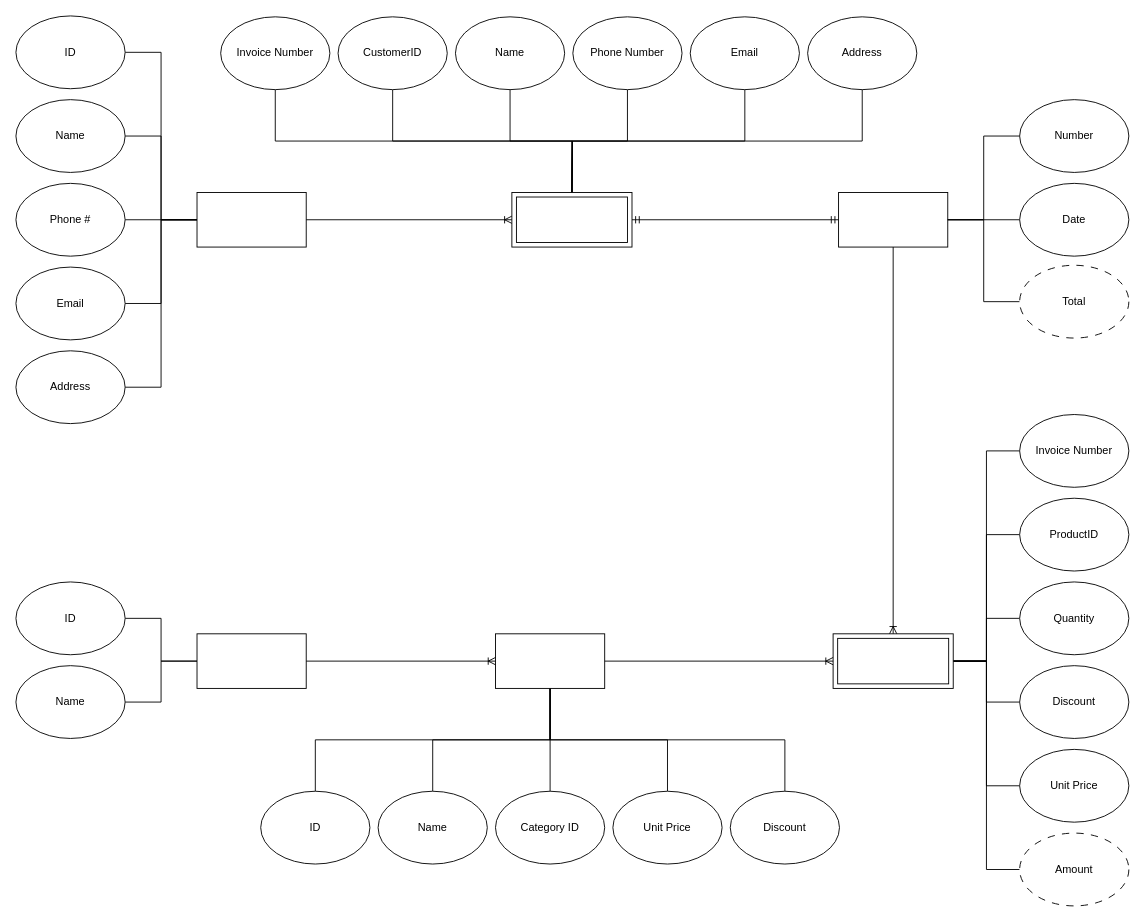
This 1145x922 diagram has some shape labels left out. The box of each missing label's shape, as (x1, y1, x2, y2) in pixels:
Category: (196, 633, 306, 688)
Customer: (196, 192, 306, 247)
Invoice: (838, 192, 948, 247)
Invoice Customer: (511, 192, 632, 247)
Invoice Detail: (832, 633, 953, 688)
Product: (495, 633, 605, 688)
